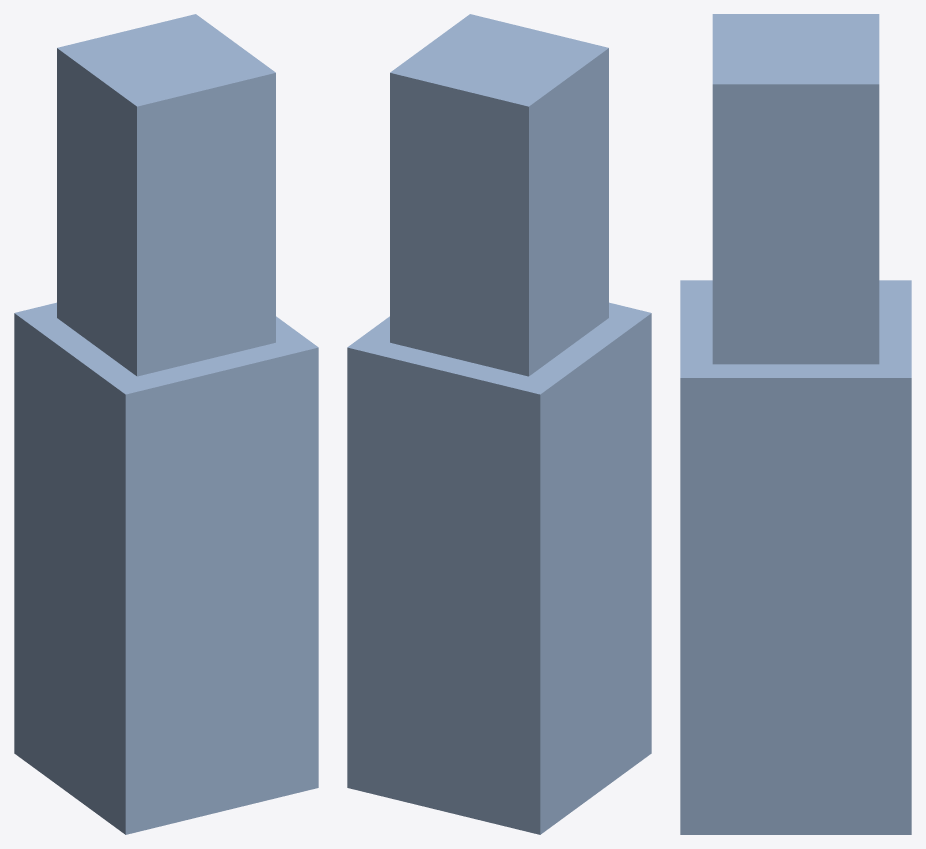
Rendered from sky2_setback.glb.
The picture shows the model from 3 angles, left to right: view 1: azimuth 30°, elevation 25°; view 2: azimuth 150°, elevation 25°; view 3: azimuth 270°, elevation 25°; orthographic projection. The views are drawn at different scales.
Parts seen in each view (by area): view 1: sky2_setback; view 2: sky2_setback; view 3: sky2_setback.
Part boxes in pixels (left/top/right/bottom): sky2_setback: left=14, top=14, right=318, bottom=834; sky2_setback: left=347, top=14, right=651, bottom=834; sky2_setback: left=680, top=14, right=911, bottom=834.
Bounding box in the file's own units: 1.65 × 5.8 × 1.65.
